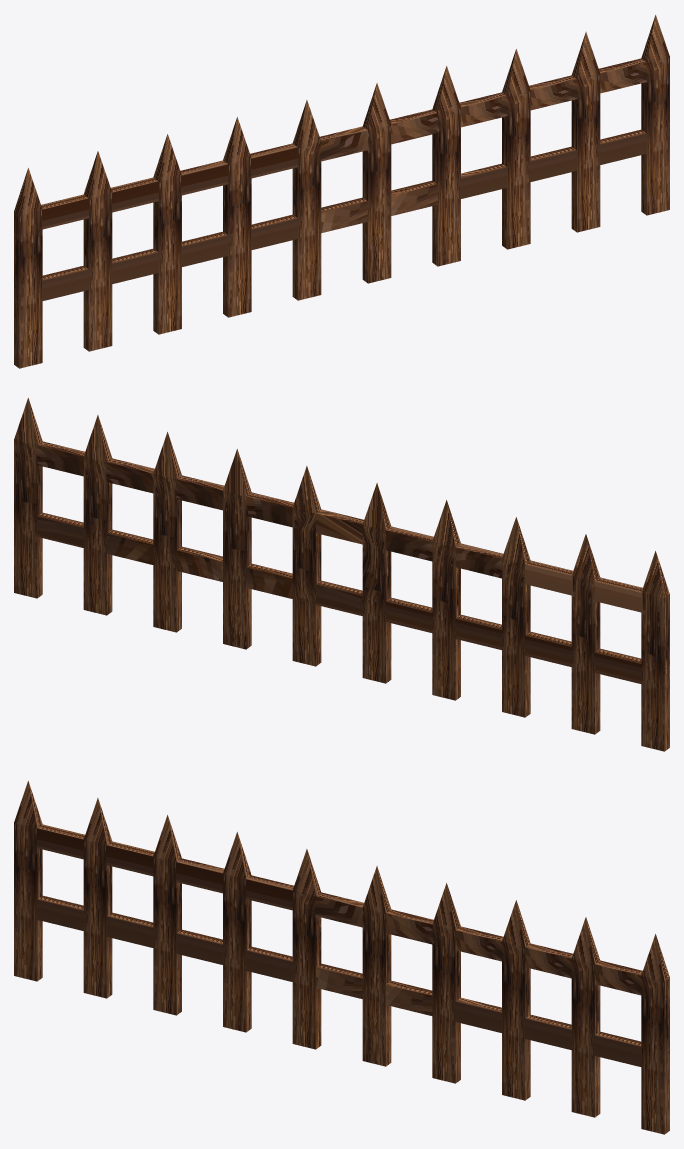
File: cerca.fbx
3 views of the same model, one above another, from view 1: azimuth 30°, elevation 25°; view 2: azimuth 150°, elevation 25°; view 3: azimuth 330°, elevation 25° (orthographic).
Parts seen in each view (by area): view 1: Cube; view 2: Cube; view 3: Cube.
Part boxes in pixels (<box>): Cube: <box>14,15,669,368</box>; Cube: <box>14,398,669,751</box>; Cube: <box>14,781,669,1134</box>.
Bounding box in the file's own units: 479 × 138 × 6.92.
Materials: 1 (1 with a texture image).
